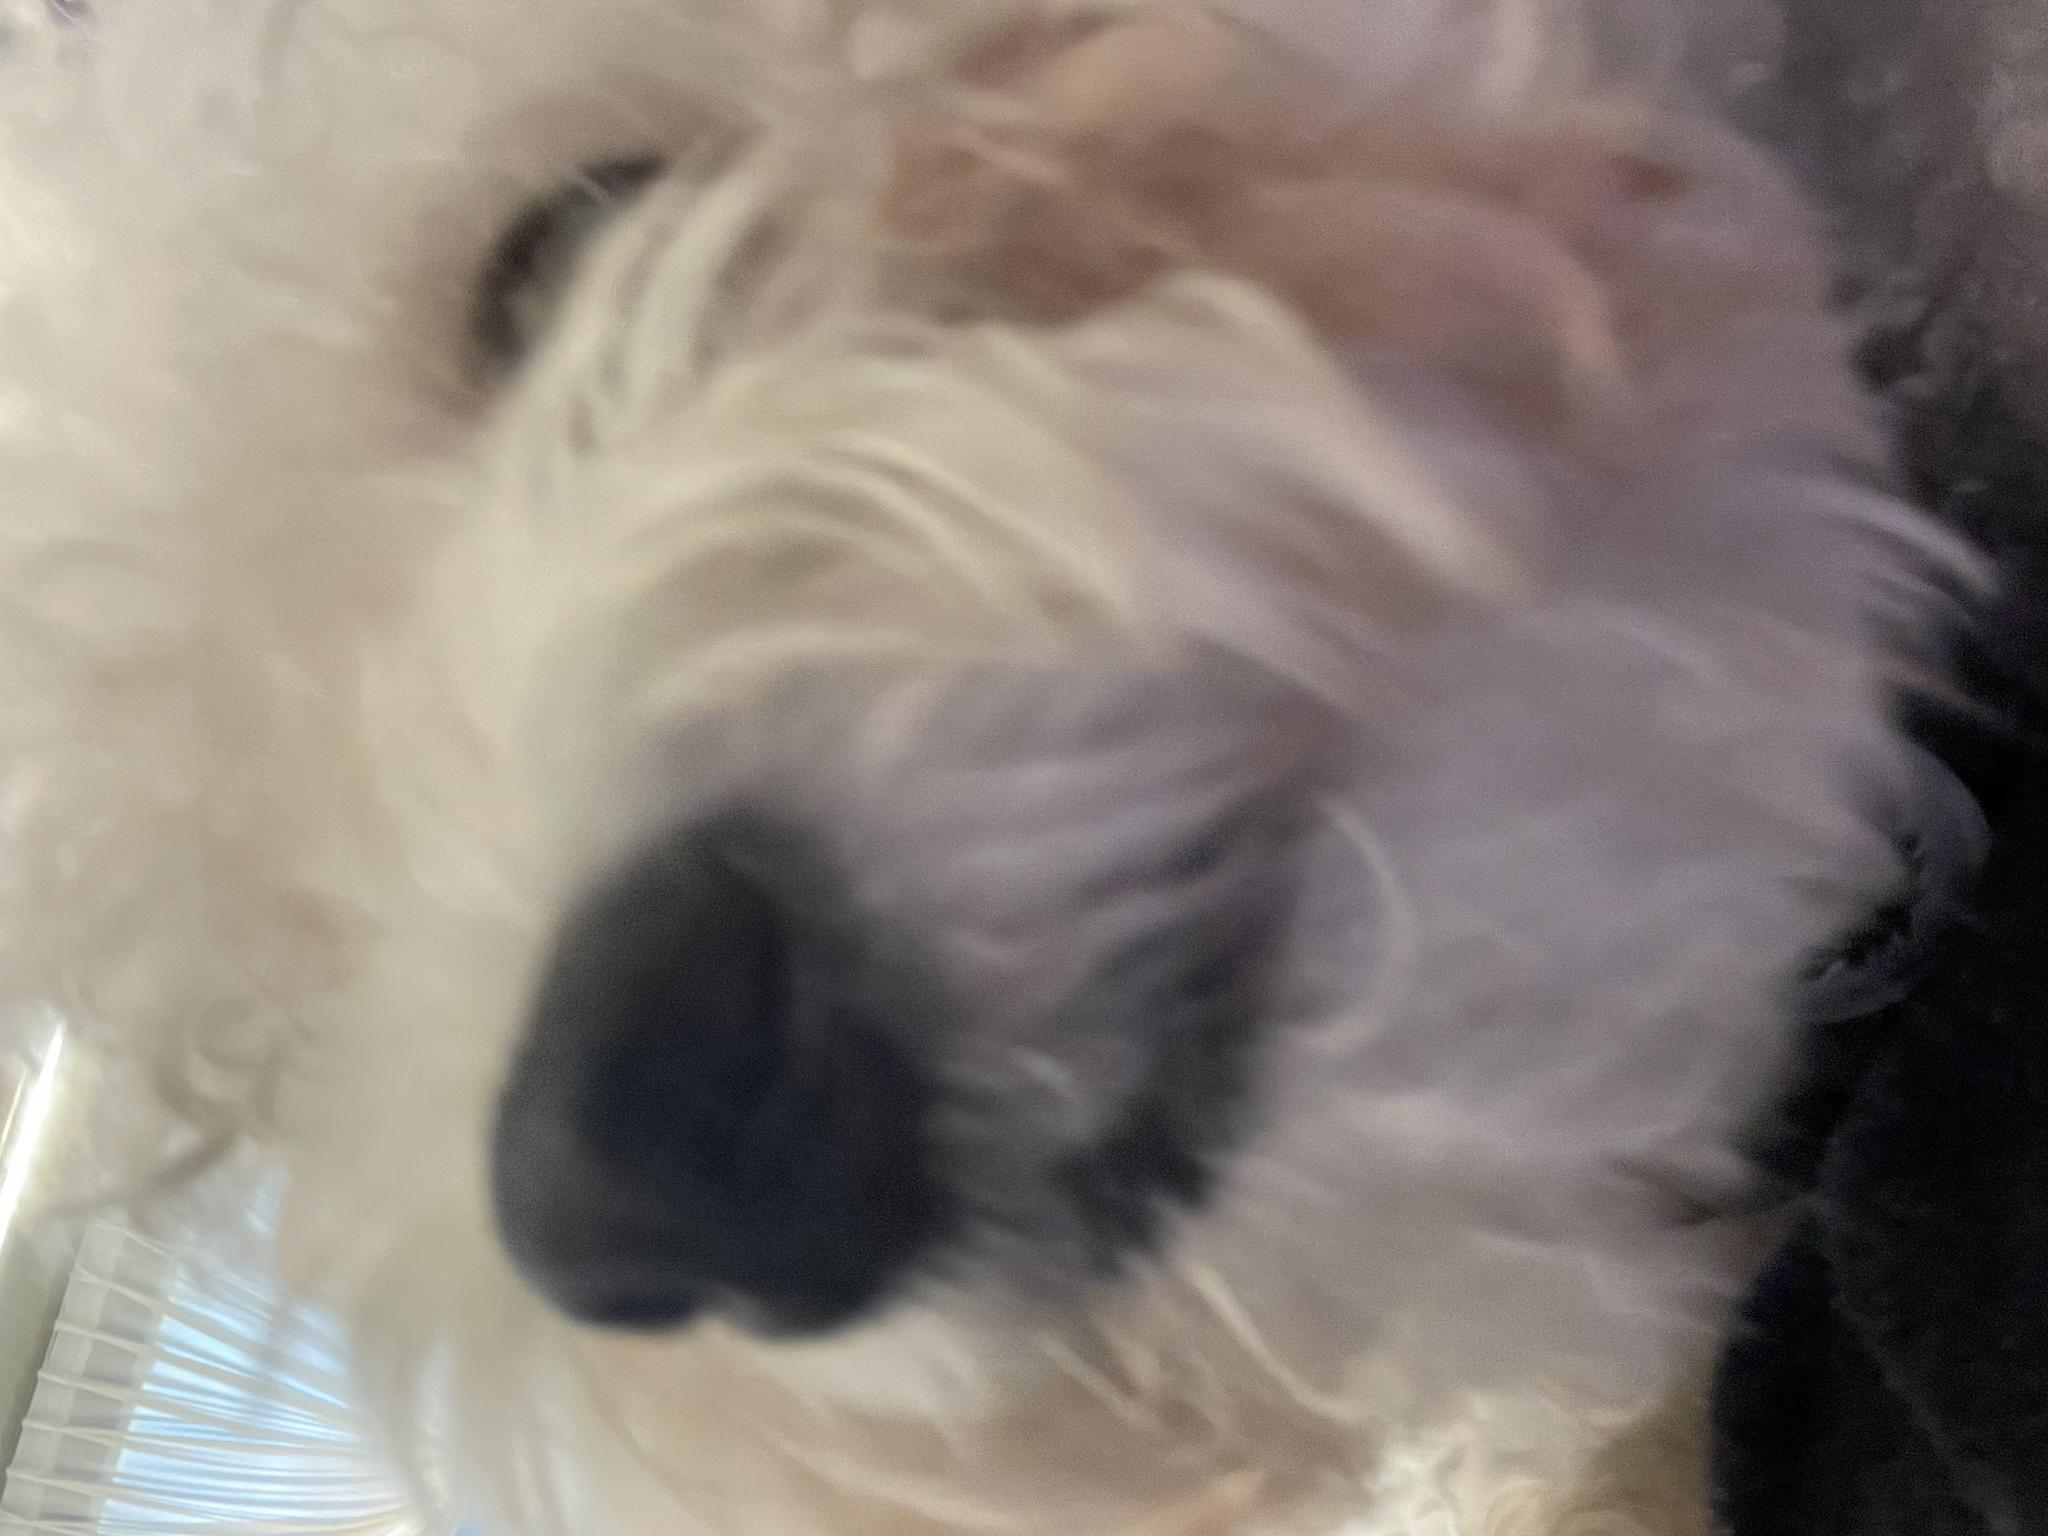dog: (3, 2, 1530, 1536)
